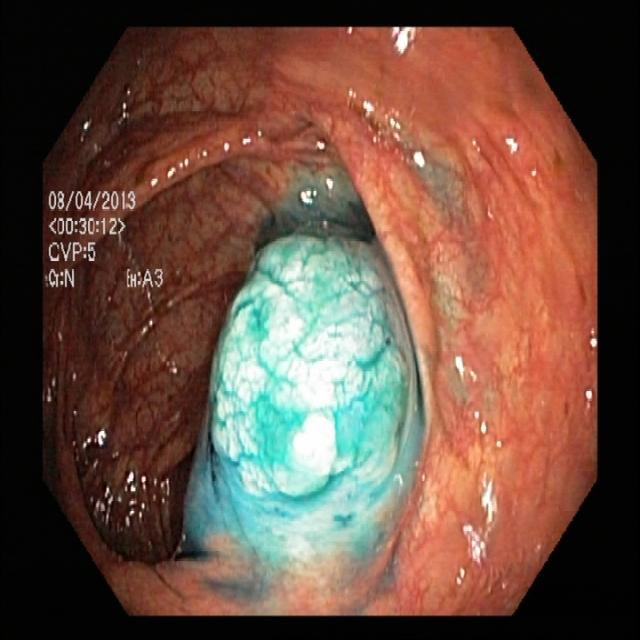dyed-lifted-polyps: (193, 217, 443, 528)
